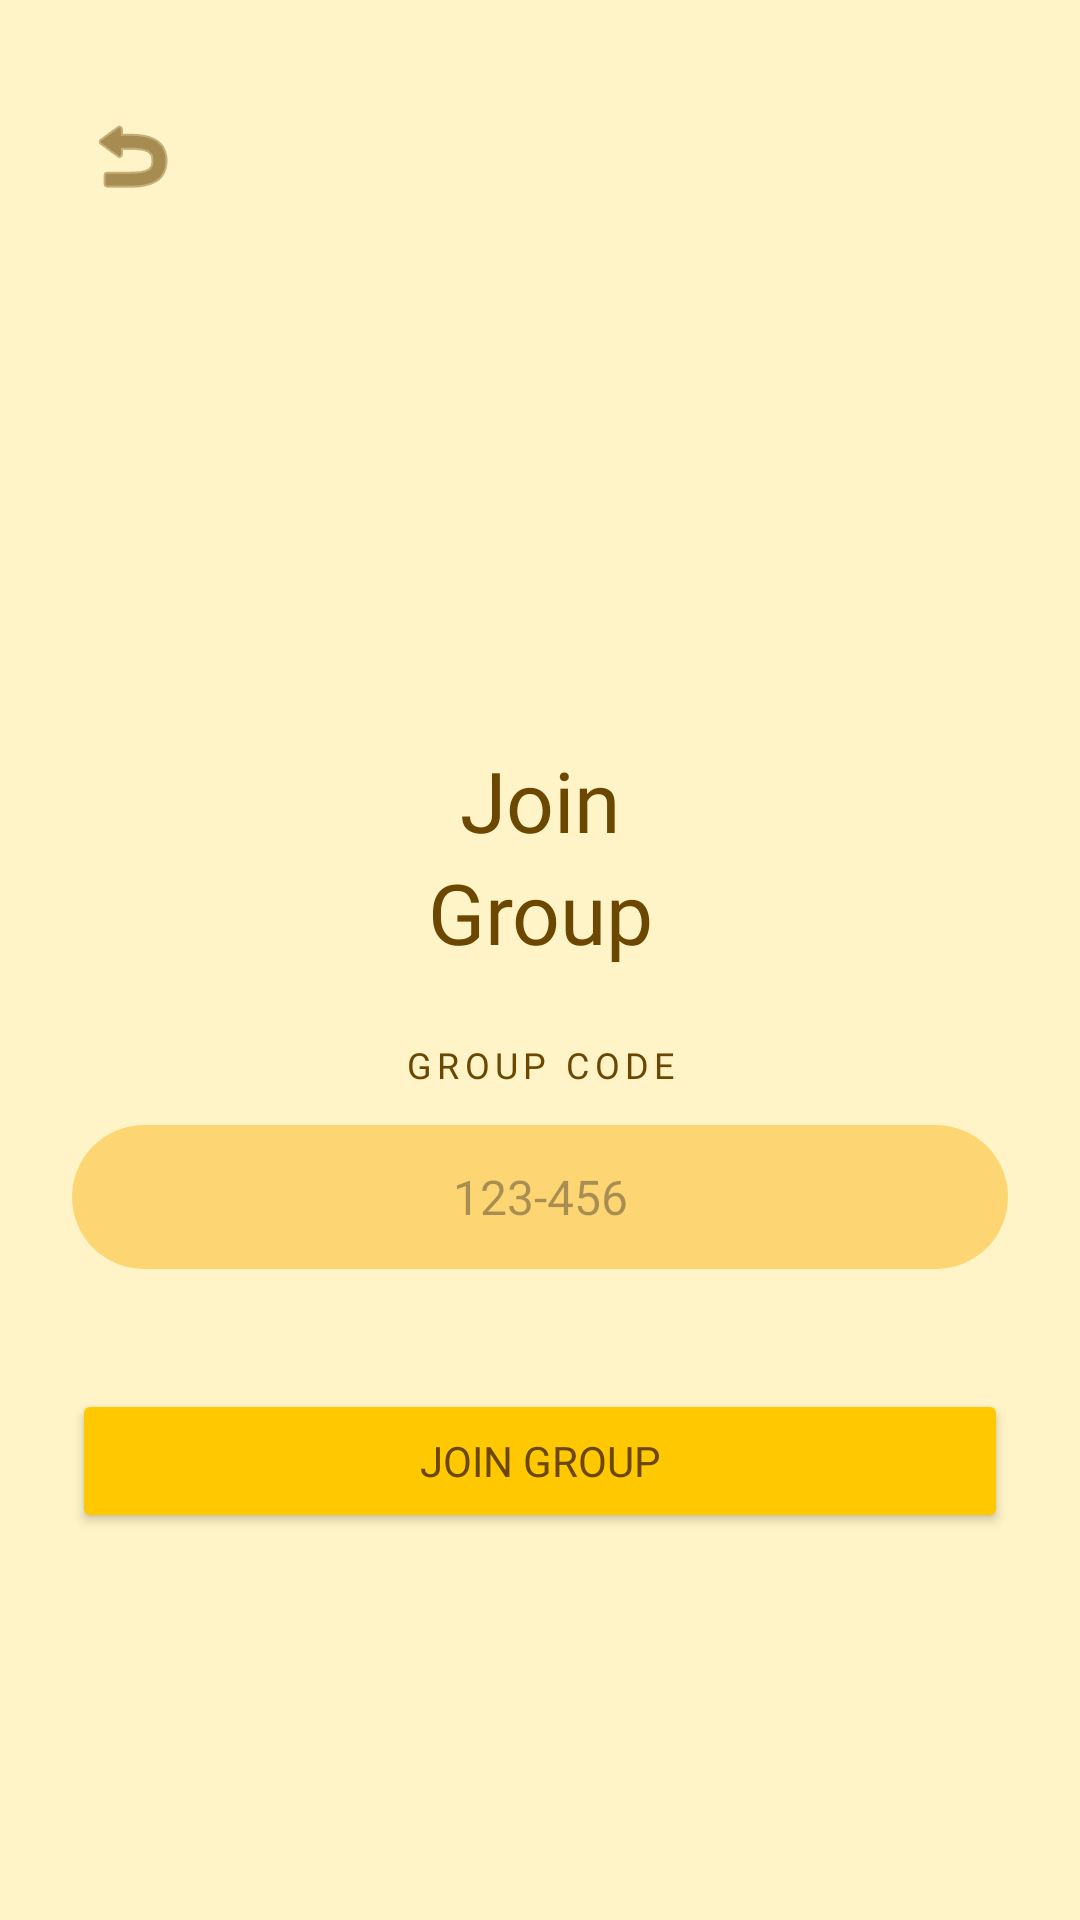

Screen size 1080*1920. Icon name, then its box in pixels as (x1, y1, x2, y2):
Back: (99, 125, 168, 188)
